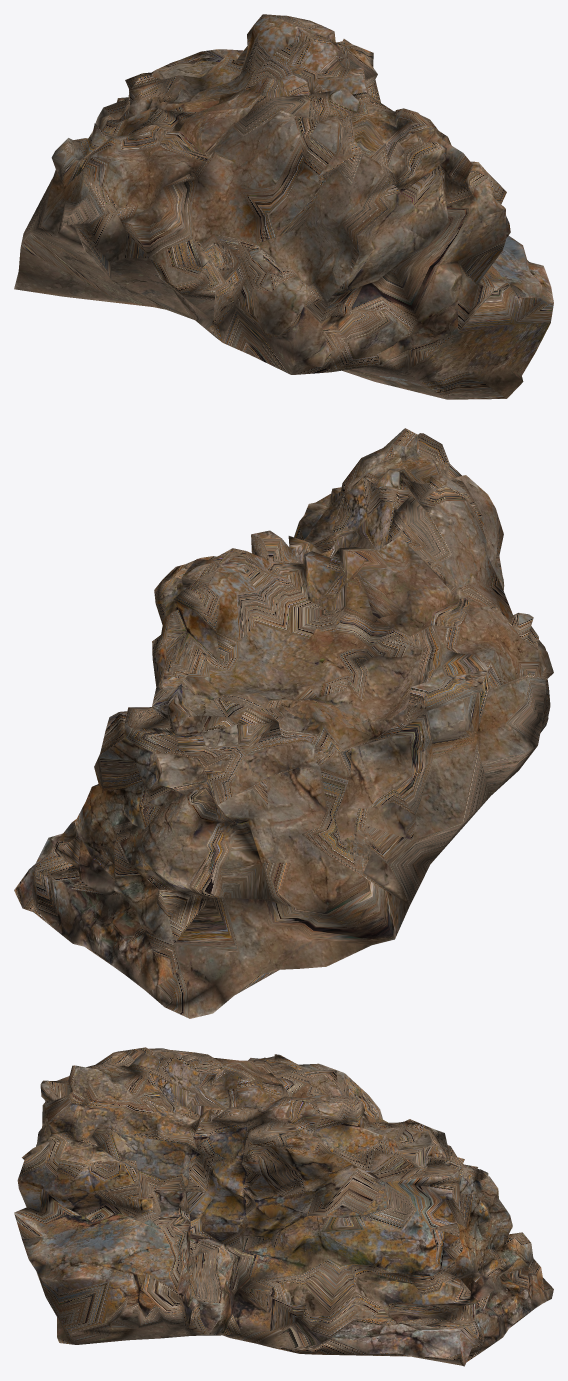
The model's file is woodland-rock-0-far.glb.
The picture shows the model from 3 angles, top to bottom: view 1: azimuth 30°, elevation 25°; view 2: azimuth 150°, elevation 25°; view 3: azimuth 270°, elevation 25°; orthographic projection. The views are drawn at different scales.
Parts seen in each view (by area): view 1: boulder_01; view 2: boulder_01; view 3: boulder_01.
Boxes of the visible parts, left/top/right/bottom form: boulder_01: left=14, top=14, right=553, bottom=399; boulder_01: left=14, top=428, right=553, bottom=1018; boulder_01: left=14, top=1047, right=553, bottom=1366.
Size of the model in its own units: 0.6917 by 0.5481 by 0.9991.
1 material, 1 textured.
